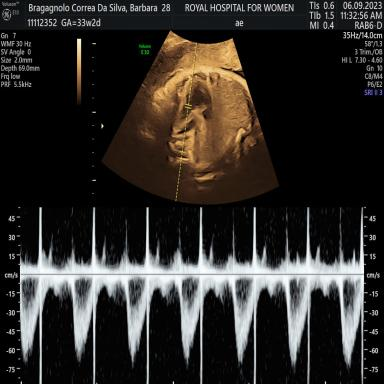Ultrasound-Waves: (25, 205, 360, 384)
